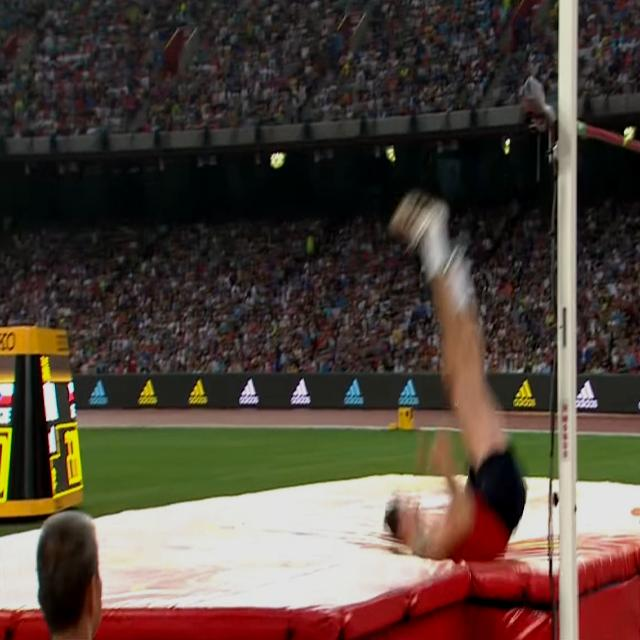land: (383, 192, 525, 560)
